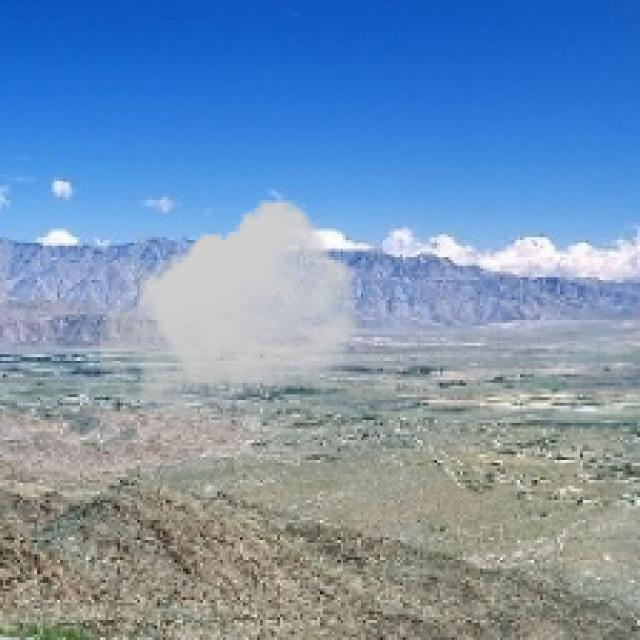Smoke: (100, 200, 360, 429)
